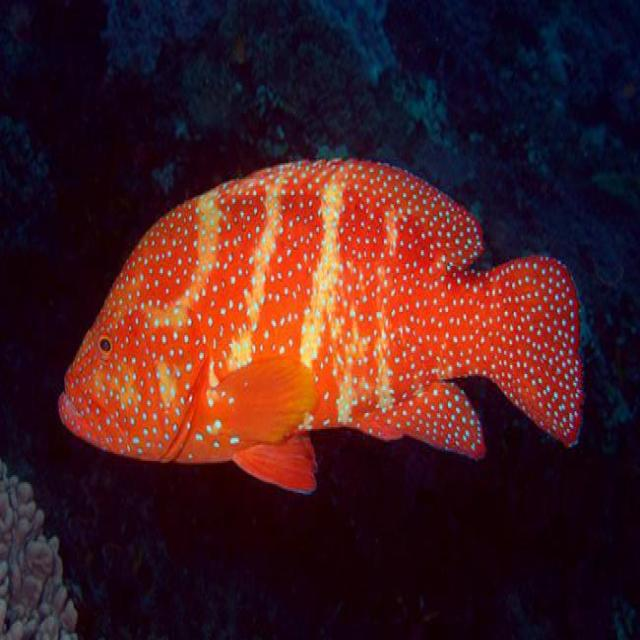ikan: (56, 154, 584, 495)
